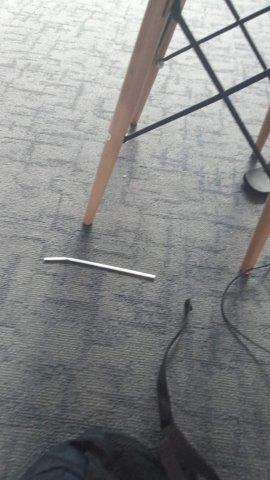sedotan: (43, 256, 157, 279)
